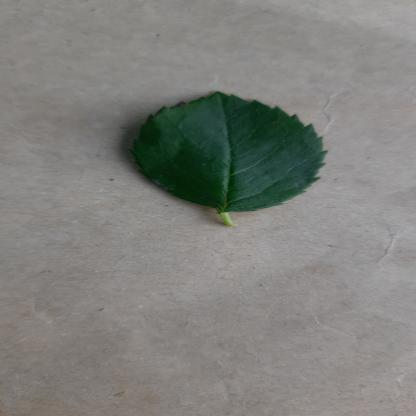normal: (127, 89, 332, 213)
